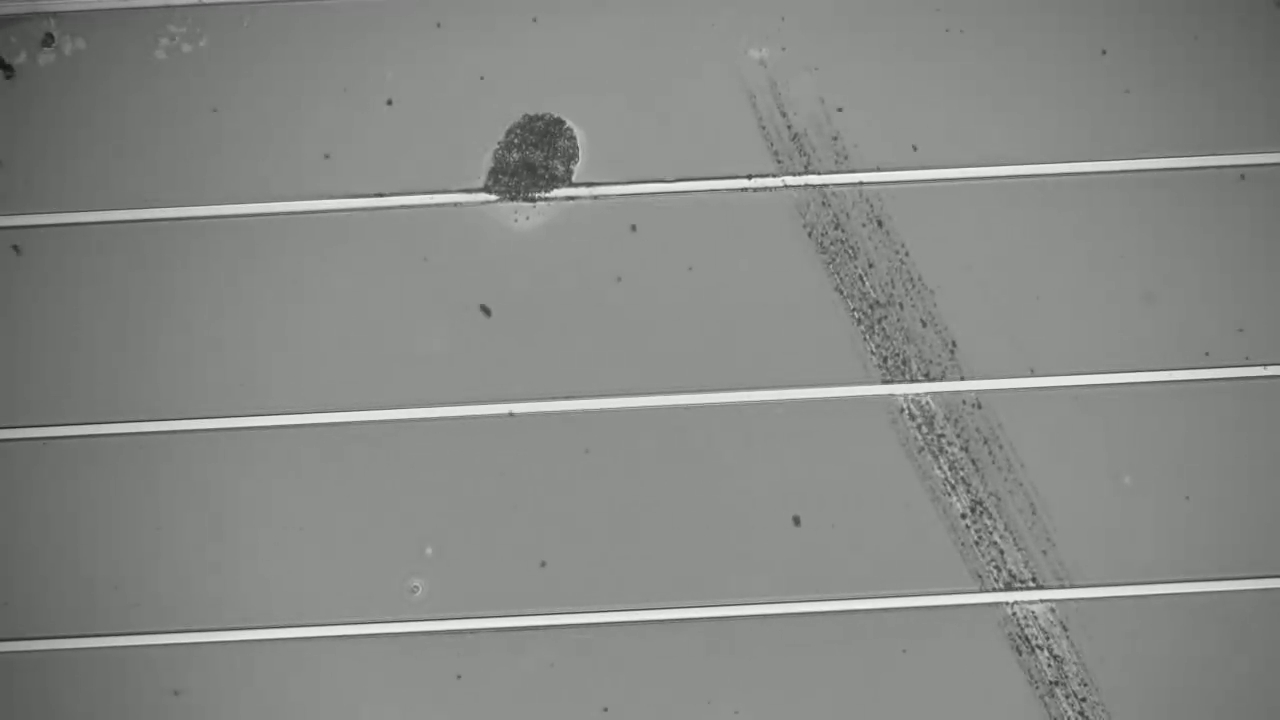scratch: (737, 52, 1123, 716)
stains_enbedded: (462, 88, 598, 244)
